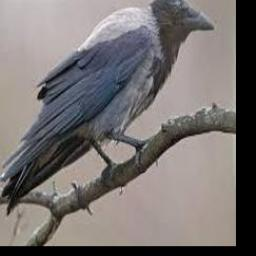Crow: (0, 0, 215, 214)
